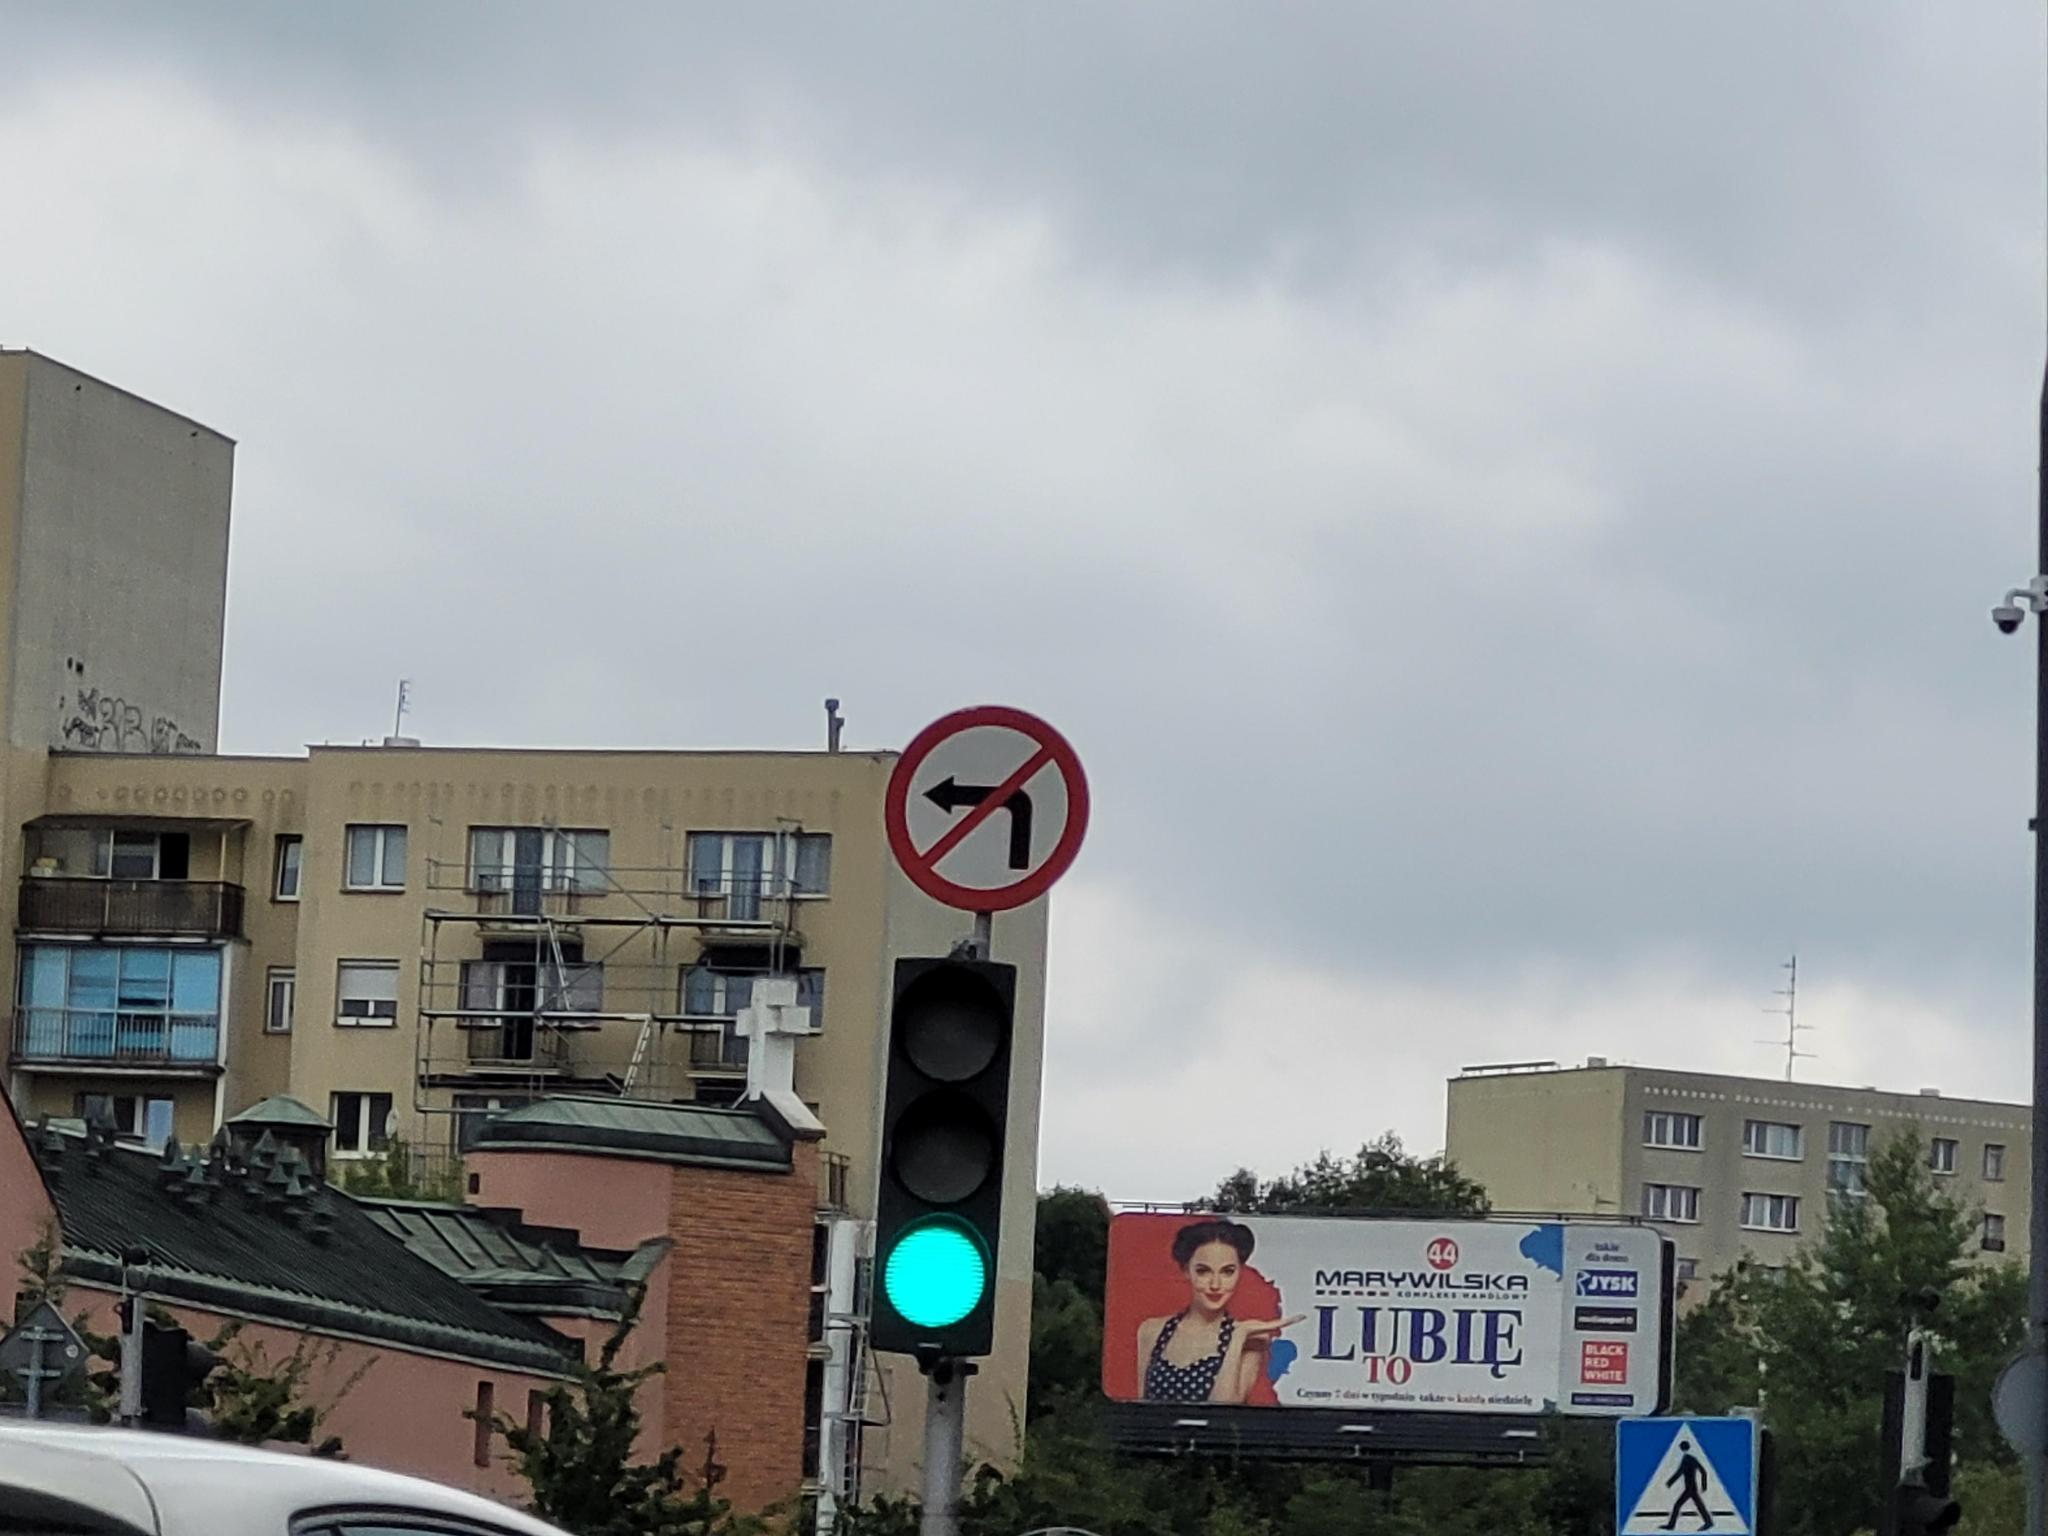information: (1619, 1421, 1753, 1536)
prohibitory: (880, 703, 1092, 915)
